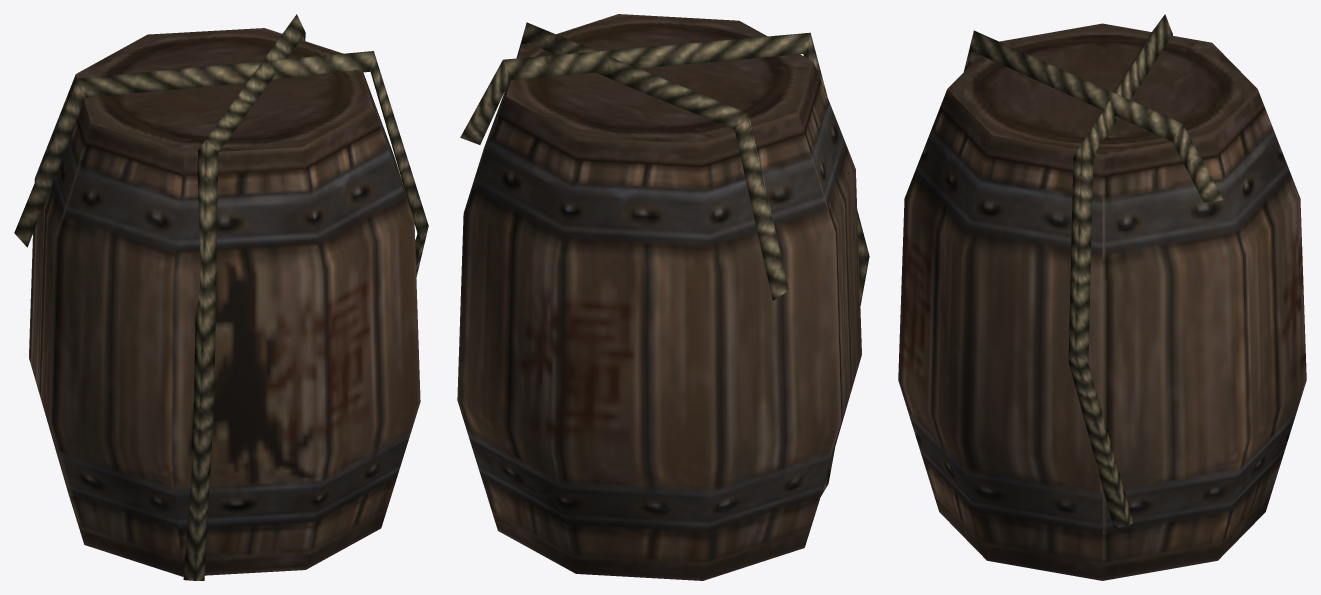
File: muxiang_yc_27.fbx
3 renders of one model, left to right at view 1: azimuth 30°, elevation 25°; view 2: azimuth 150°, elevation 25°; view 3: azimuth 270°, elevation 25°, orthographic. The views are drawn at different scales.
Parts seen in each view (by area): view 1: muxiang_yc_27; view 2: muxiang_yc_27; view 3: muxiang_yc_27.
Boxes of the visible parts, <box> form: muxiang_yc_27: <box>14,14,428,580</box>; muxiang_yc_27: <box>457,14,869,580</box>; muxiang_yc_27: <box>898,14,1306,580</box>.
Size of what is drawn, in the model's own units: 97.45 by 113 by 93.48.
